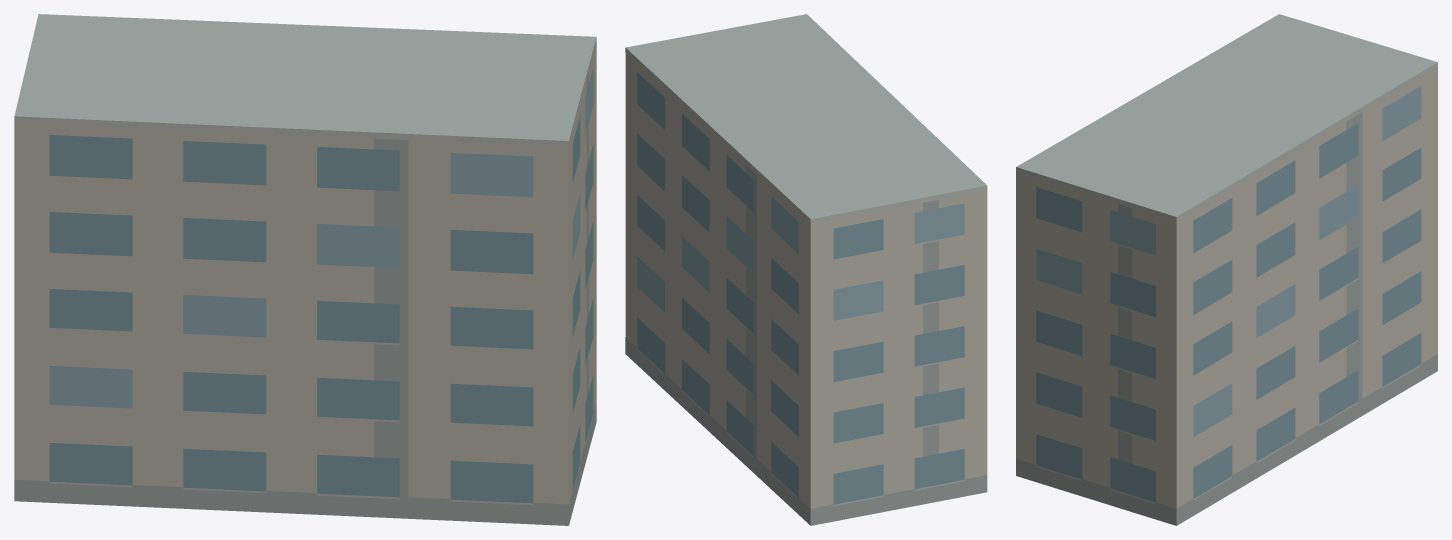
File: survey-upis-32555754.glb
3 views of the same model, side by side, from view 1: azimuth 30°, elevation 25°; view 2: azimuth 150°, elevation 25°; view 3: azimuth 270°, elevation 25° (orthographic). The views are drawn at different scales.
Visible parts, largest first — view 1: survey-upis-32555754.tmp; view 2: survey-upis-32555754.tmp; view 3: survey-upis-32555754.tmp.
Boxes of the visible parts, x1=… form: survey-upis-32555754.tmp: x1=14, y1=14, x2=596, y2=525; survey-upis-32555754.tmp: x1=625, y1=14, x2=987, y2=525; survey-upis-32555754.tmp: x1=1016, y1=14, x2=1437, y2=525.
Size of the model in its own units: 20.86 by 14.8 by 18.32.
